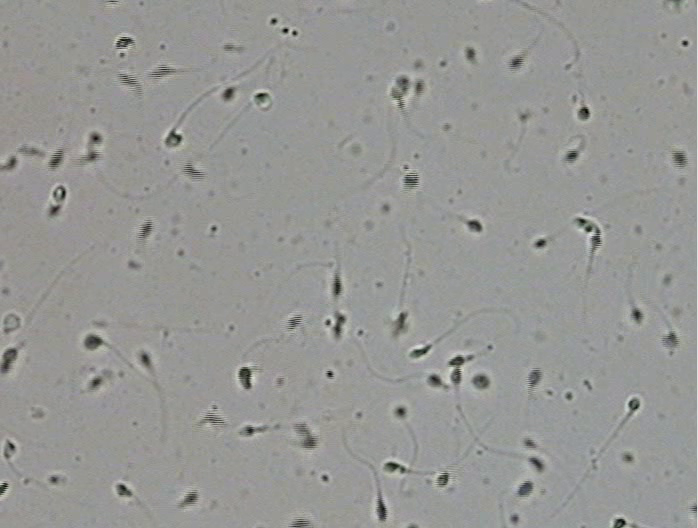S: (1, 347, 18, 375), (575, 218, 601, 236), (182, 162, 204, 181), (117, 73, 140, 89), (148, 65, 174, 79), (332, 313, 346, 339), (238, 366, 253, 390), (390, 86, 405, 109), (84, 334, 104, 351), (203, 412, 225, 427), (392, 312, 407, 334), (526, 368, 541, 390), (403, 171, 420, 190), (48, 150, 64, 170), (138, 220, 153, 240), (375, 498, 388, 521), (115, 36, 136, 50), (671, 151, 688, 168), (165, 131, 183, 147), (662, 332, 679, 348), (286, 315, 302, 331), (517, 481, 533, 497), (300, 436, 318, 450), (331, 274, 342, 296), (410, 346, 430, 358), (508, 55, 524, 70), (472, 374, 489, 388), (466, 219, 483, 233), (3, 440, 16, 458), (293, 423, 311, 436), (82, 151, 101, 163), (183, 491, 199, 505), (396, 75, 410, 91), (528, 457, 544, 471), (436, 471, 449, 488), (53, 185, 66, 202), (221, 86, 235, 101), (289, 518, 310, 528), (590, 233, 602, 250), (451, 366, 462, 384), (138, 352, 151, 367), (427, 374, 442, 387), (254, 92, 270, 104), (116, 484, 132, 496), (448, 356, 465, 367), (88, 377, 102, 390), (577, 106, 590, 120), (565, 149, 579, 162), (631, 308, 643, 323), (414, 79, 425, 95), (89, 132, 102, 145), (241, 425, 255, 437), (383, 462, 399, 472), (6, 156, 17, 170), (628, 398, 640, 410), (48, 205, 61, 216), (394, 406, 407, 417), (523, 438, 536, 449), (465, 47, 475, 60), (613, 518, 626, 528), (1, 481, 9, 496), (535, 239, 546, 248), (689, 504, 697, 514), (107, 1, 119, 5)
